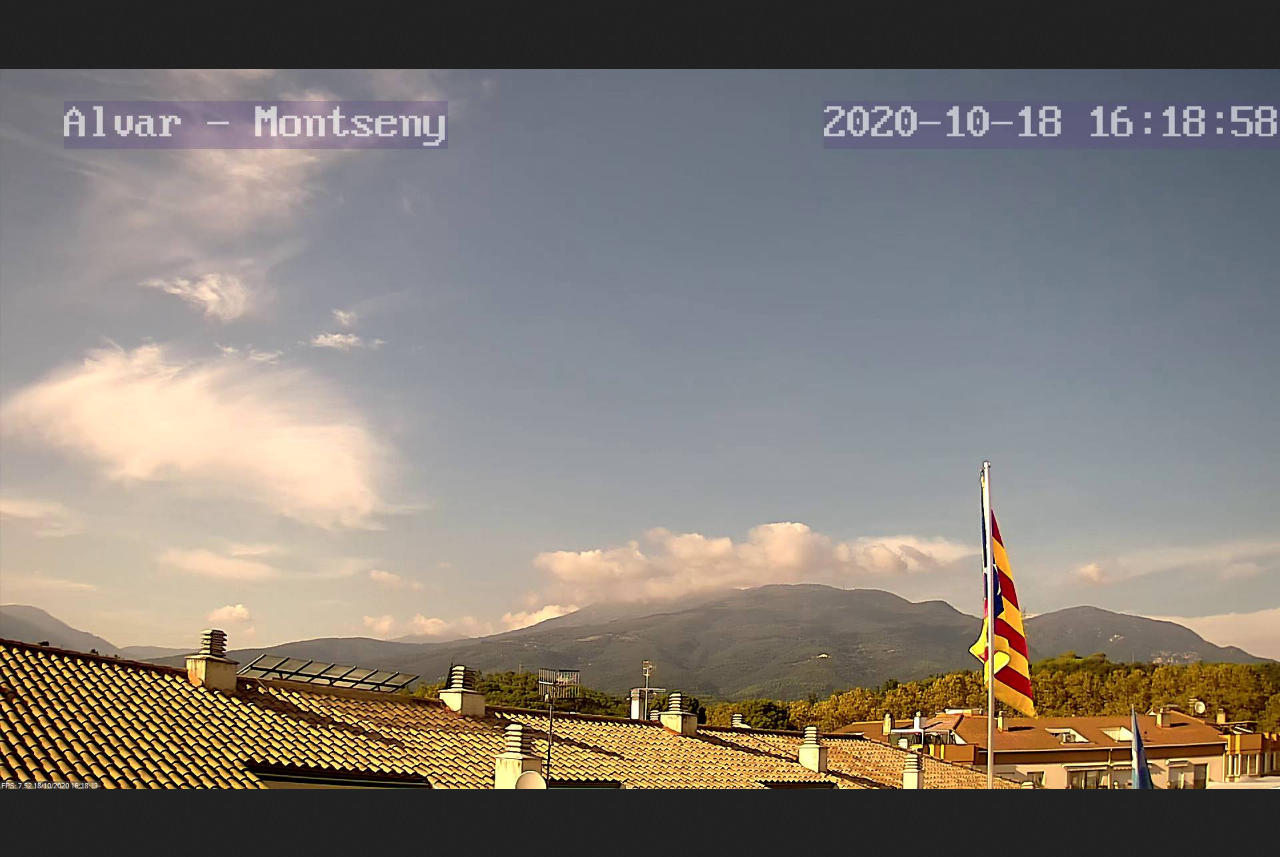maybe: (966, 469, 1041, 721)
